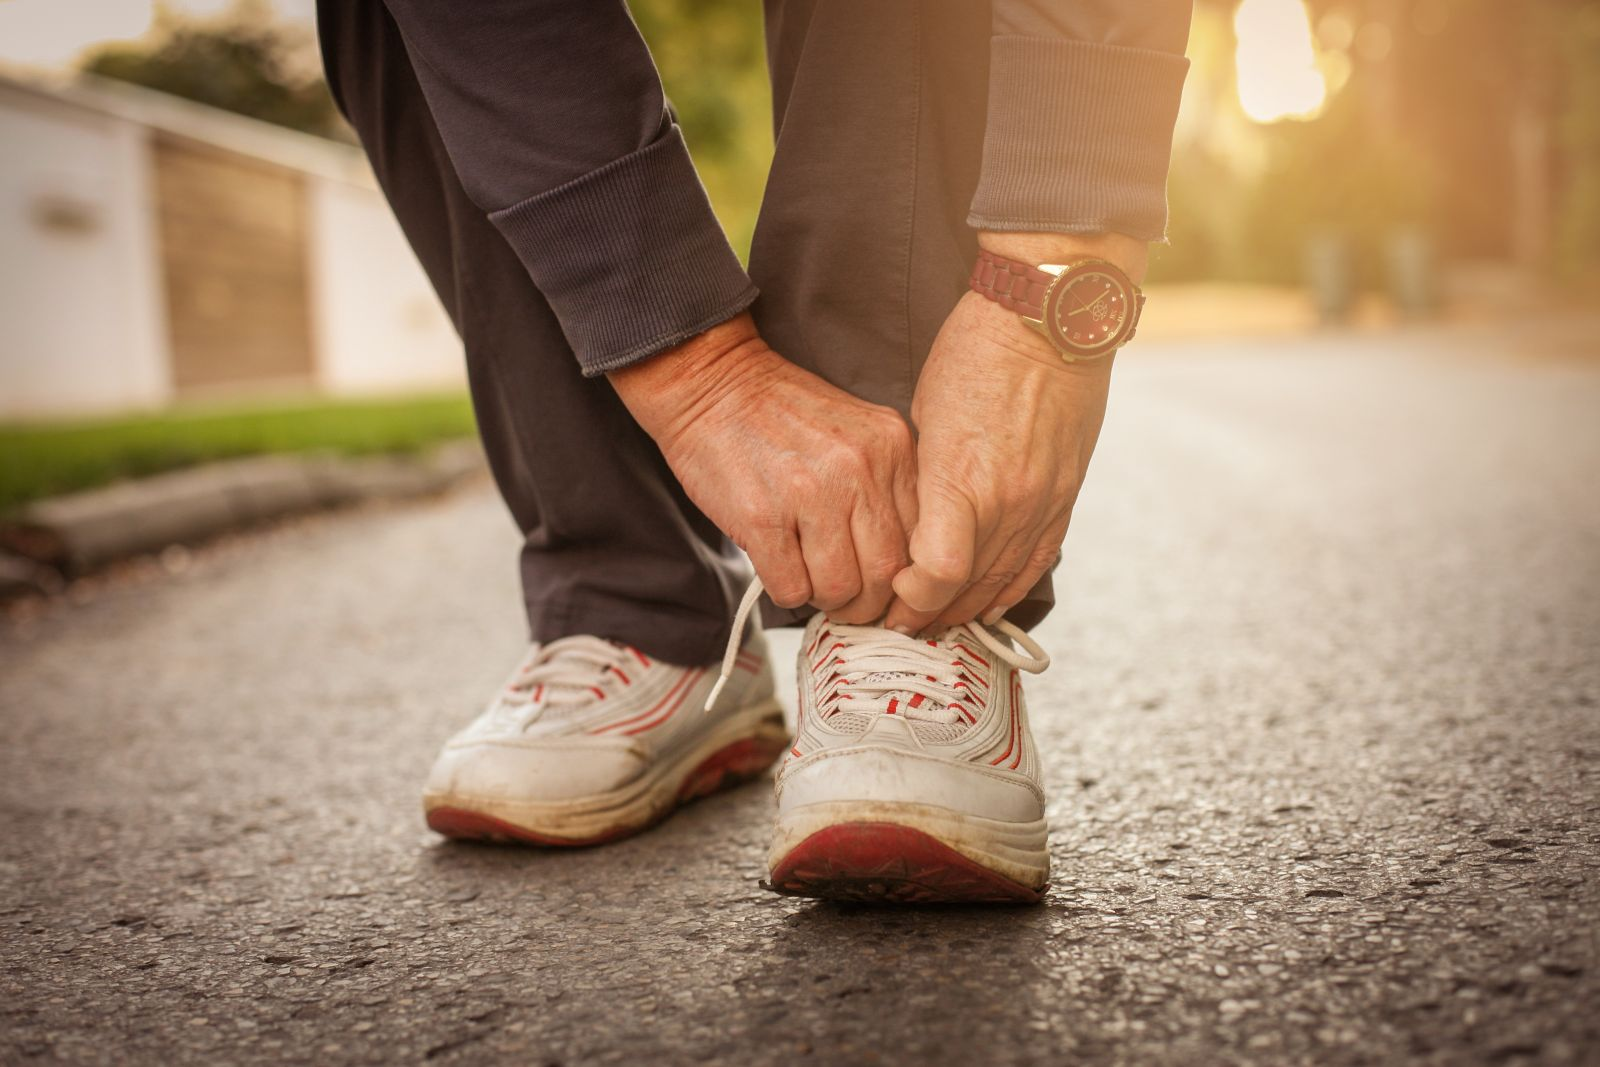feet: (389, 567, 1086, 925)
